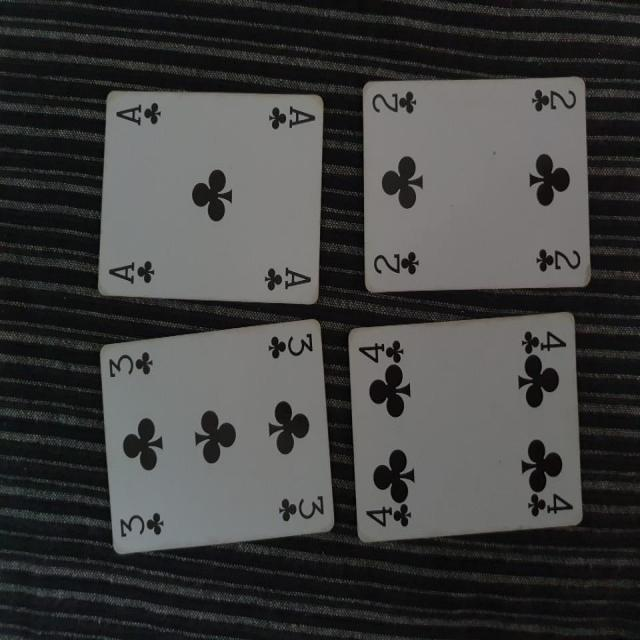2 of clubs: (358, 73, 592, 294)
3 of clubs: (97, 317, 336, 554)
4 of clubs: (350, 311, 584, 546)
ace of clubs: (96, 90, 324, 306)
